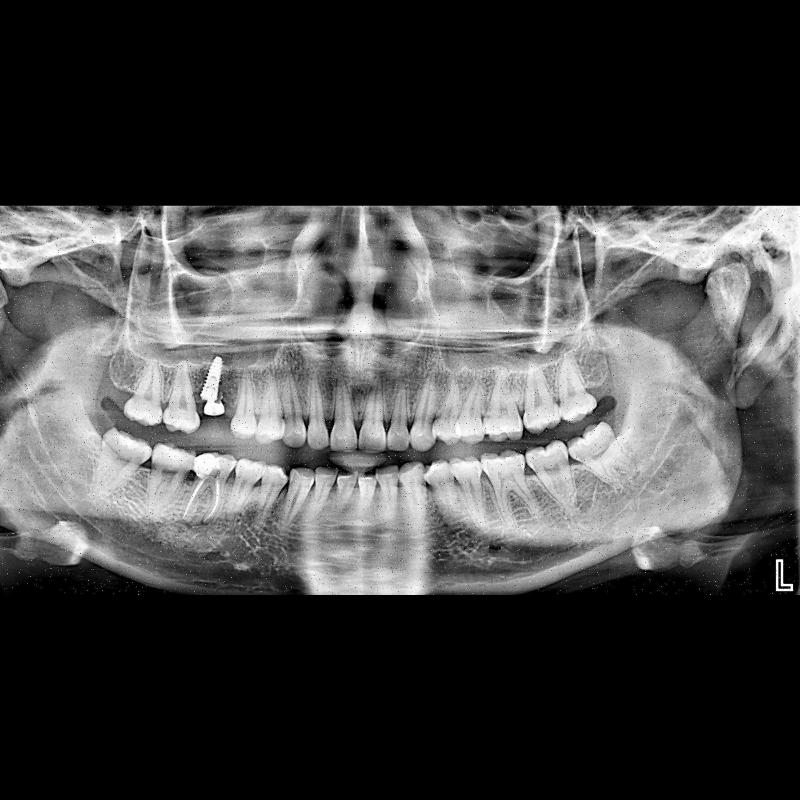osstem: (195, 351, 229, 403)
